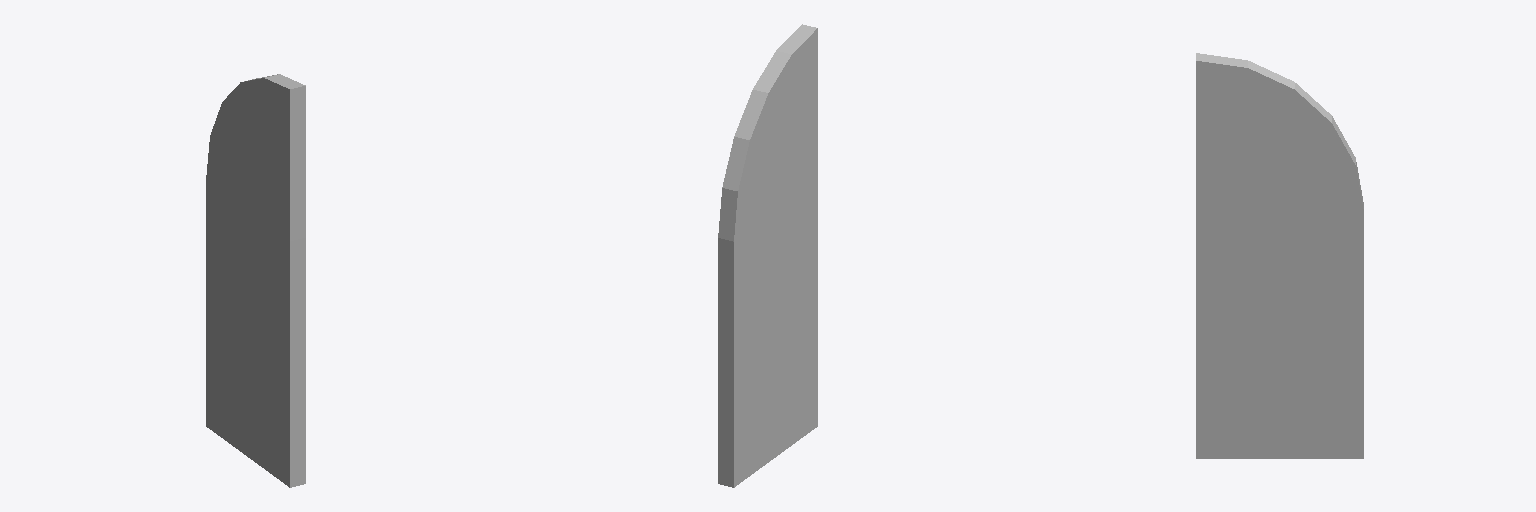
File: Puerta1.obj
3 views of the same model, side by side, from view 1: azimuth 30°, elevation 25°; view 2: azimuth 150°, elevation 25°; view 3: azimuth 270°, elevation 25° (orthographic).
Visible parts, largest first — view 1: Cajaregistradora:polySurface5; view 2: Cajaregistradora:polySurface5; view 3: Cajaregistradora:polySurface5.
Boxes of the visible parts, x1=… form: Cajaregistradora:polySurface5: x1=206, y1=74, x2=305, y2=487; Cajaregistradora:polySurface5: x1=718, y1=24, x2=817, y2=487; Cajaregistradora:polySurface5: x1=1196, y1=53, x2=1363, y2=458.
Size of the model in its own units: 0.5336 by 12.74 by 4.87.